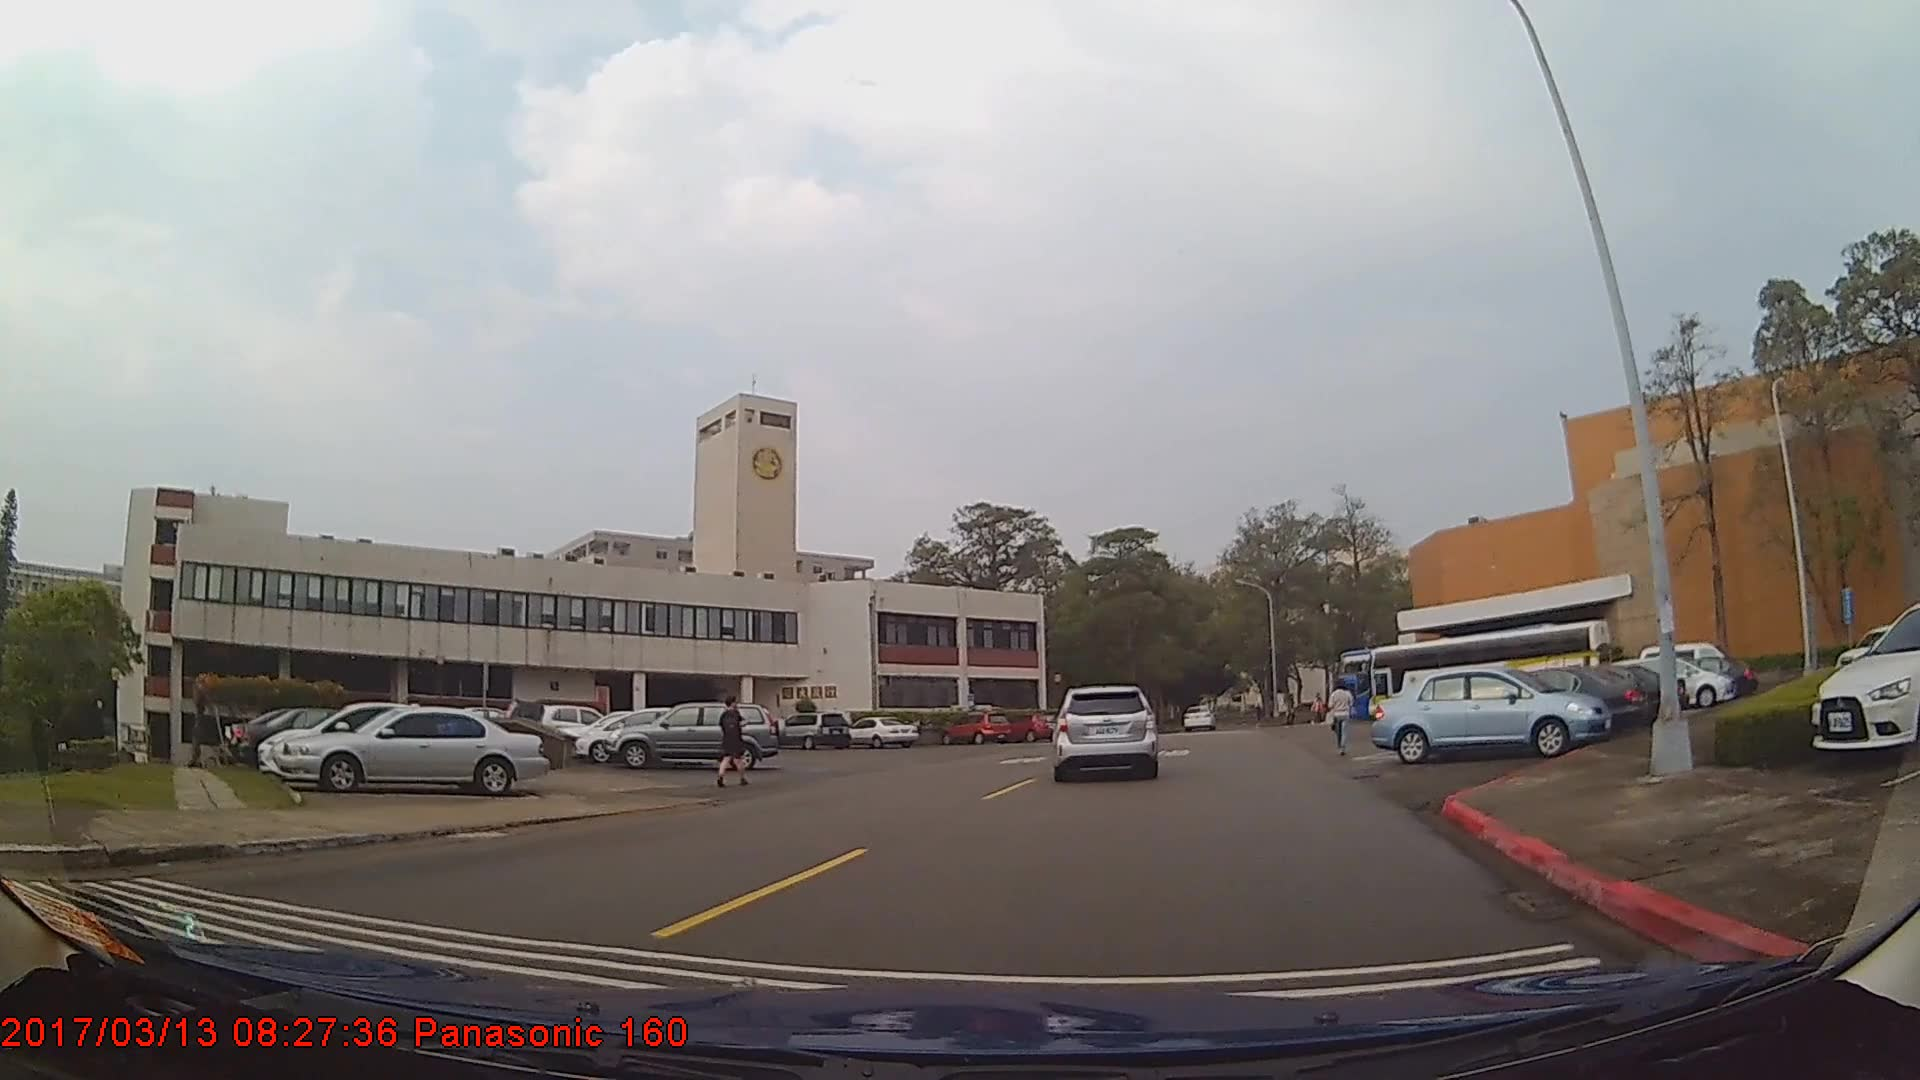pedestrian: (714, 695, 748, 785), (1328, 677, 1358, 756)
vehicle: (276, 704, 552, 794), (1371, 665, 1613, 763), (255, 699, 482, 781), (1811, 602, 1920, 749), (1442, 664, 1652, 735), (603, 699, 788, 767), (237, 704, 428, 768), (1052, 681, 1157, 783), (1513, 664, 1686, 723), (574, 704, 718, 763), (1618, 655, 1736, 708), (538, 700, 619, 747), (775, 710, 851, 752), (940, 708, 1014, 745), (844, 715, 919, 748), (1181, 703, 1216, 731)
